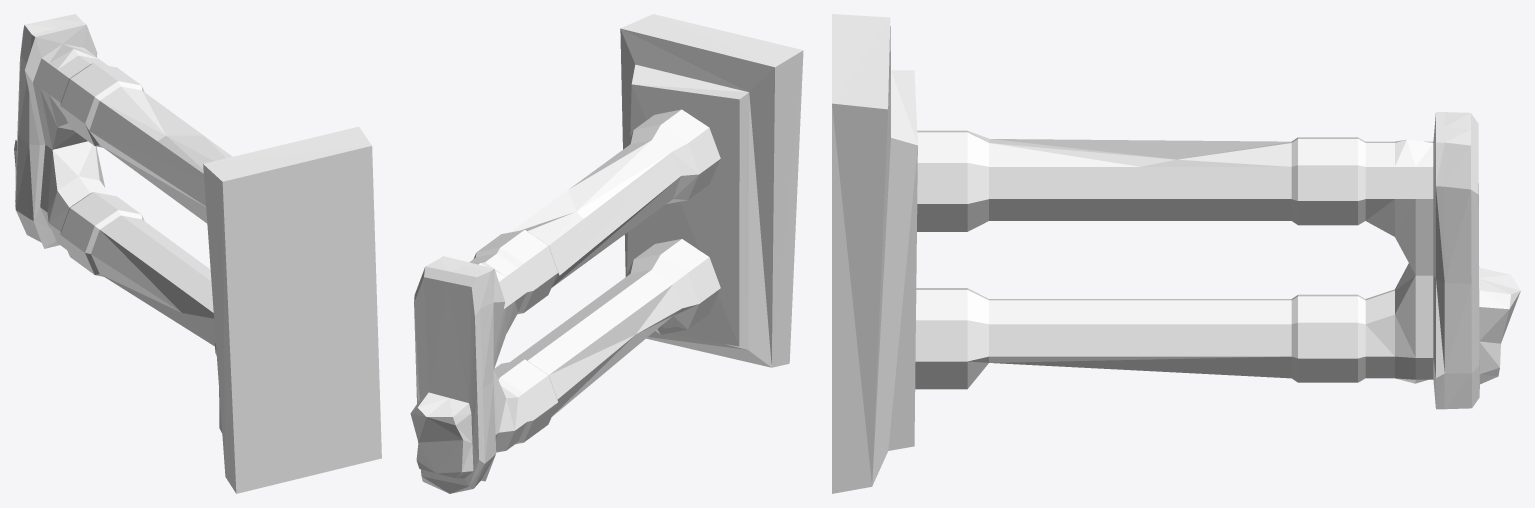
File: venice_col_obj_3.fbx
3 renders of one model, left to right at view 1: azimuth 30°, elevation 25°; view 2: azimuth 150°, elevation 25°; view 3: azimuth 270°, elevation 25°, orthographic. The views are drawn at different scales.
Visible parts, largest first — view 1: Cylinder.048; view 2: Cylinder.048; view 3: Cylinder.048.
Part boxes in pixels (x1,y1,x2,y2): Cylinder.048: (14, 14, 381, 493); Cylinder.048: (410, 14, 803, 493); Cylinder.048: (832, 14, 1520, 493).
Size of the model in its own units: 447 by 845 by 1370.
